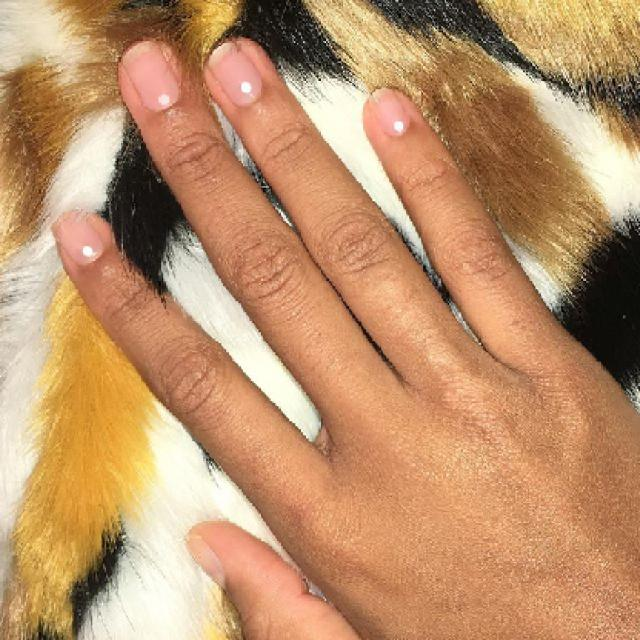Nail: (121, 41, 180, 111), (208, 42, 262, 106), (54, 212, 104, 264), (188, 534, 225, 589), (369, 89, 408, 137)
